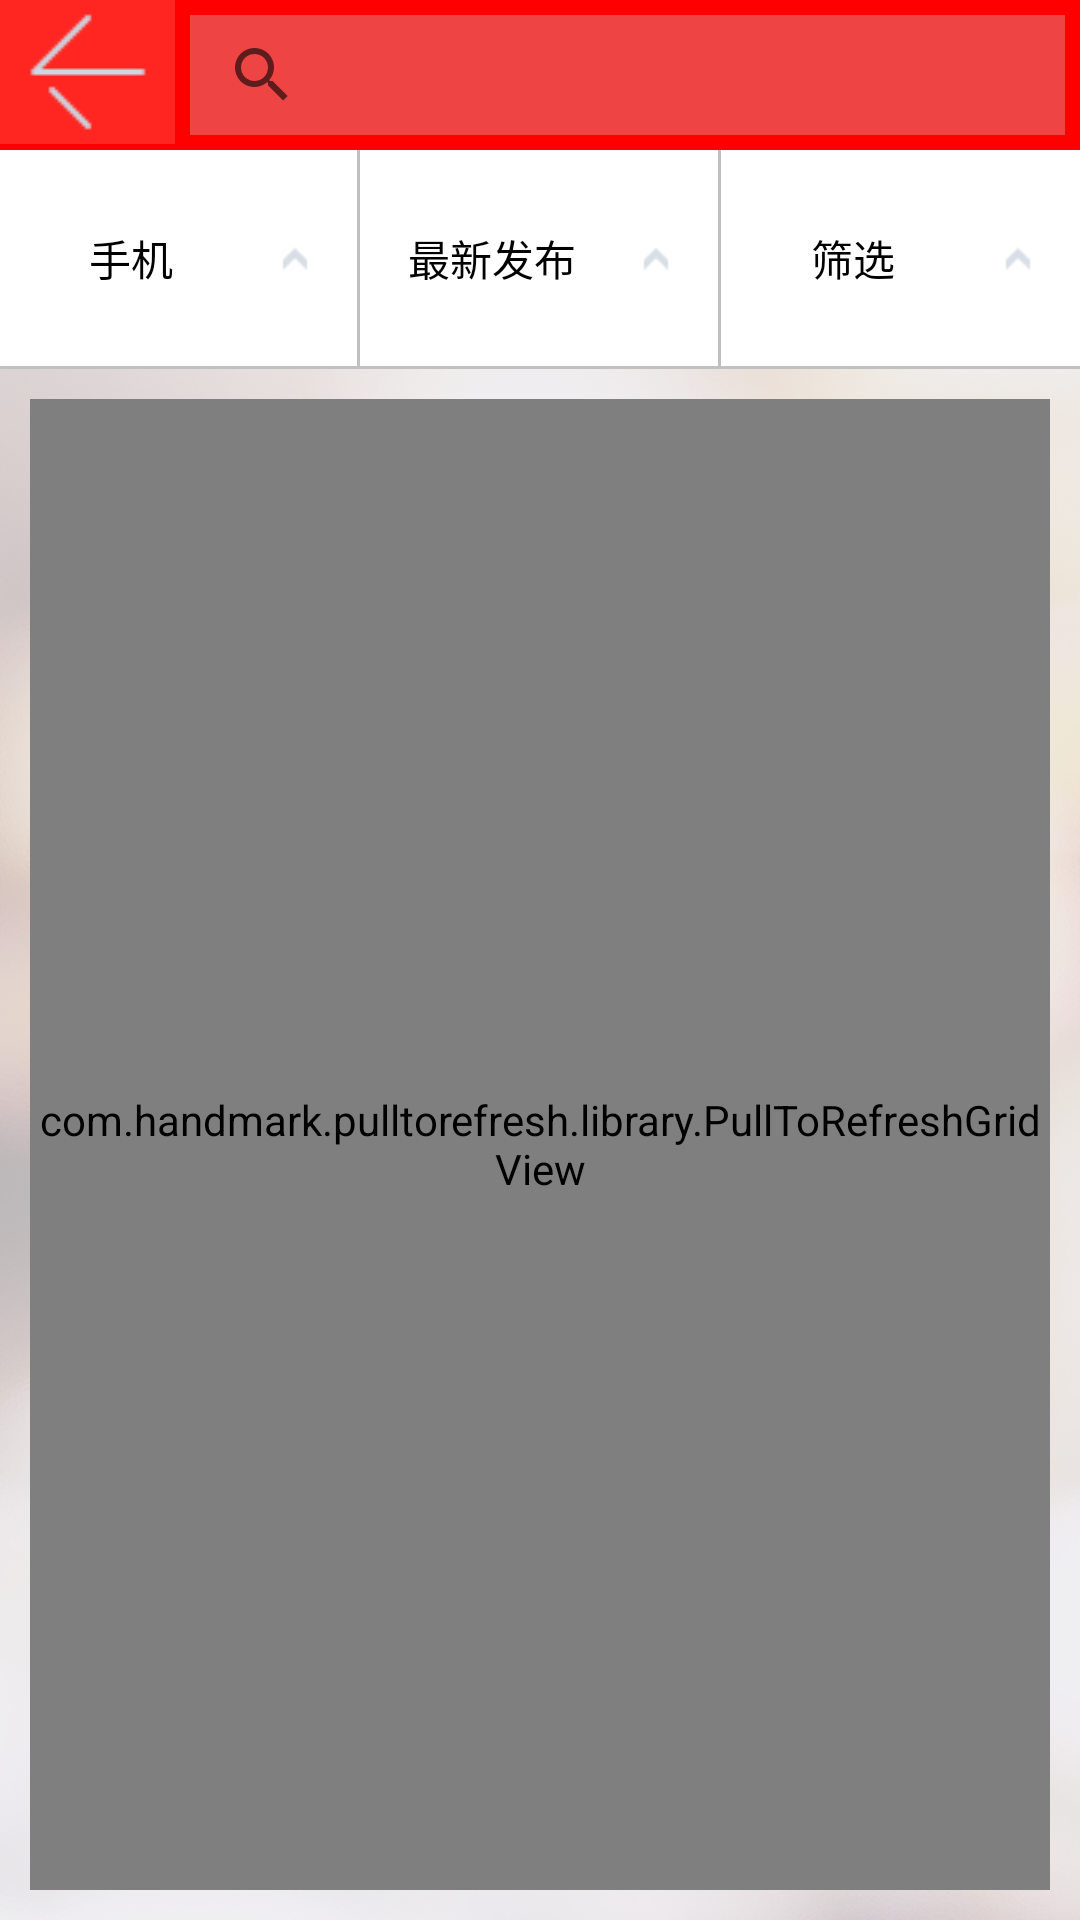

Icon bounding boxes for this 1080w x 1920h phone screenshot, format [x1=x1, y1=y1, x2=x2, y2=y2]:
back on: [x1=0, y1=0, x2=175, y2=144]
